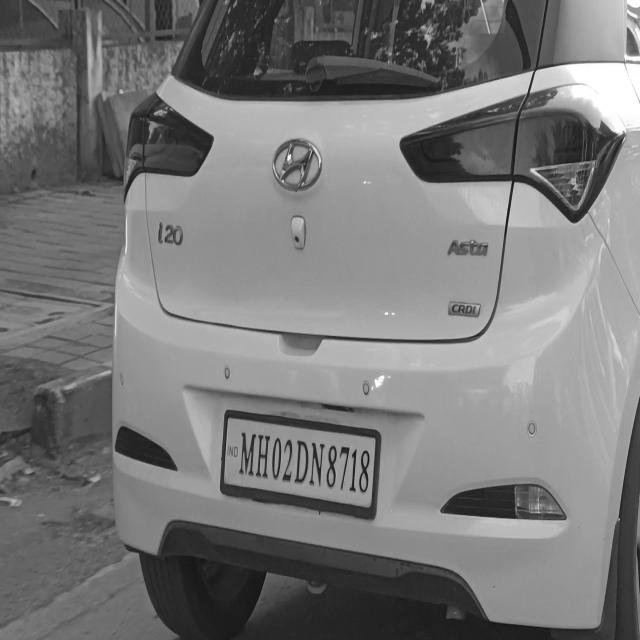license-plate: (220, 412, 382, 518)
